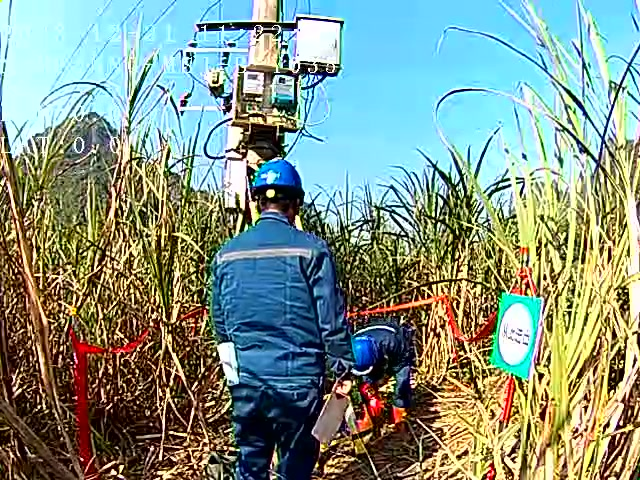downsuit: (233, 382, 327, 480), (390, 362, 412, 407)
halt: (248, 160, 306, 221), (354, 338, 380, 378)
intosign: (489, 295, 542, 379)
longglove: (359, 383, 386, 418)
person: (211, 158, 344, 480), (349, 316, 418, 431)
upsuit: (213, 223, 341, 360), (358, 323, 409, 361)
